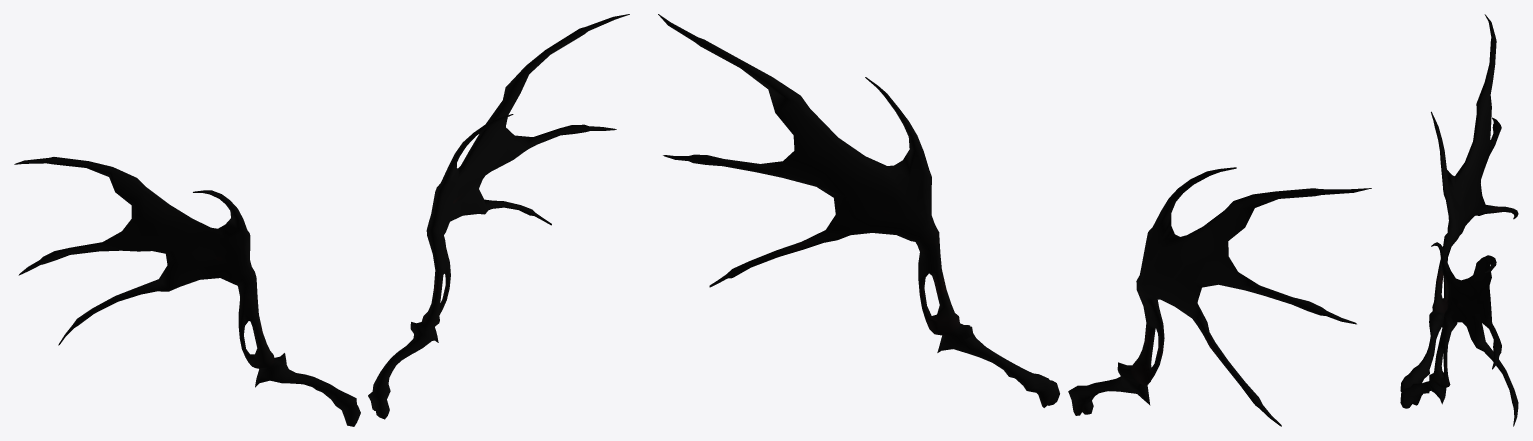
The model's file is wings.obj.
3 views of the same model, side by side, from view 1: azimuth 30°, elevation 25°; view 2: azimuth 150°, elevation 25°; view 3: azimuth 270°, elevation 25° (orthographic). The views are drawn at different scales.
Visible parts, largest first — view 1: wings_model.001_wings_model; view 2: wings_model.001_wings_model; view 3: wings_model.001_wings_model.
Boxes of the visible parts, box(x1,y1,x2,y2) form: wings_model.001_wings_model: box(14, 14, 629, 426); wings_model.001_wings_model: box(658, 14, 1371, 426); wings_model.001_wings_model: box(1400, 14, 1518, 426).
Bounding box in the file's own units: 14.03 × 6.52 × 2.7.
1 material, 1 textured.
